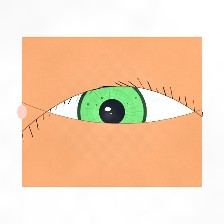pinguecula_lesion: (136, 103, 182, 140)
